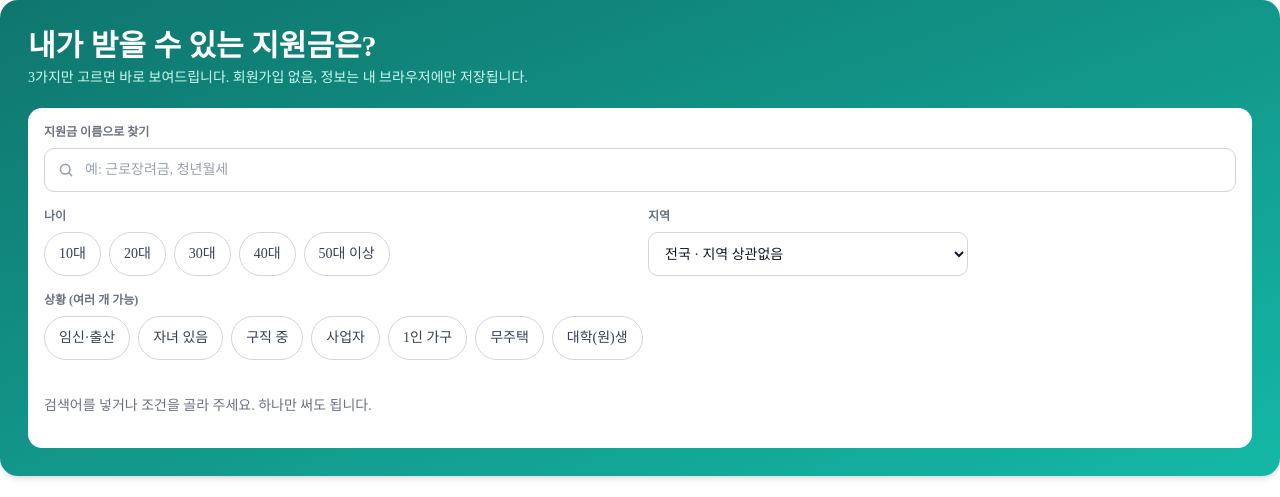
Test: DiagnosisPanel › 조건을 고르면 개수를 조회하고 localStorage에 저장한다
This screenshot has width=1280, height=497.
Click the button "30대".
click(202, 254)  # box [174,232,231,276]
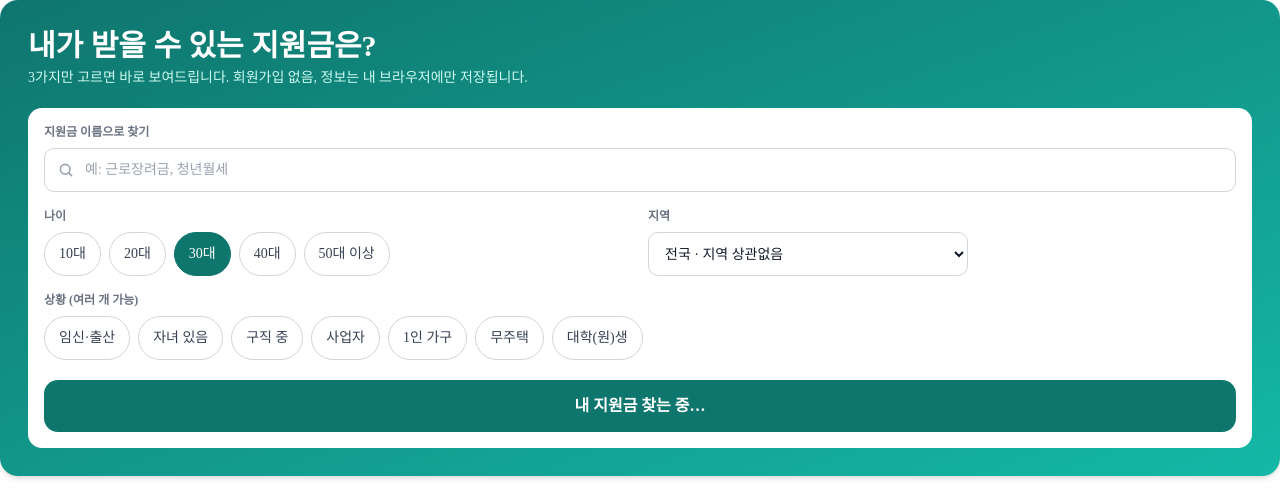
Click the button "임신·출산".
click(87, 338)  # box [44,316,130,360]
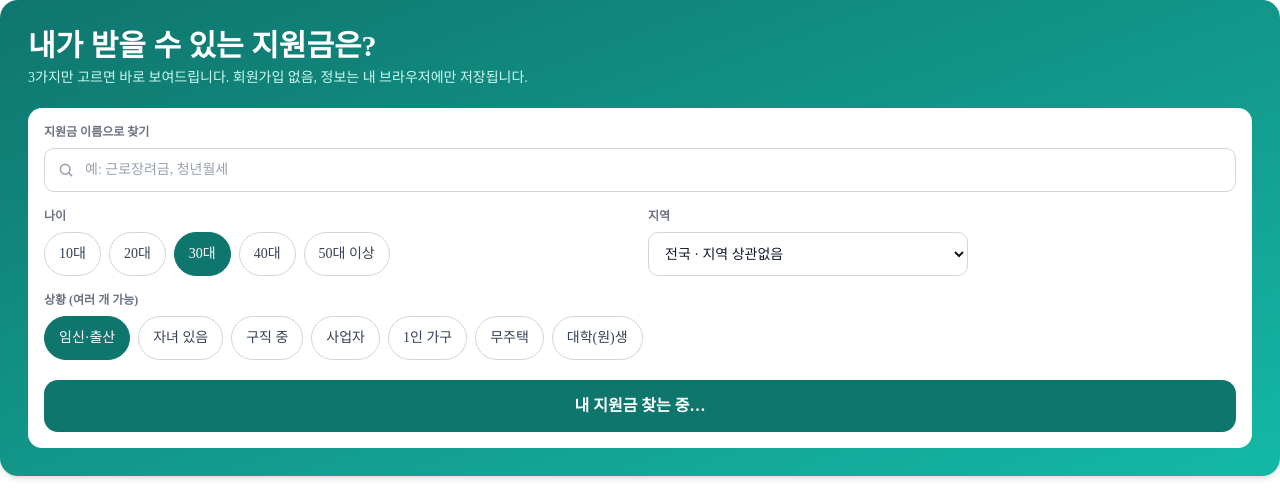
# 지역은 17개 중 하나라 칩이 아니라 목록 상자다
Select "서울" in the dropdown labelled "지역" at (808, 254), box [648,232,968,276]
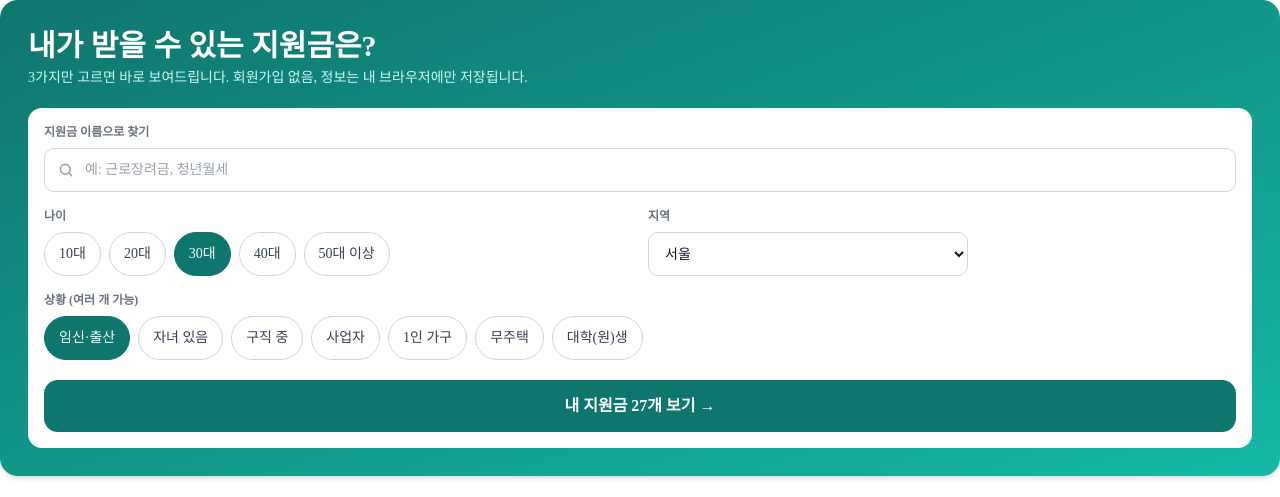
Result: the link "내 지원금 27개 보기 →" is shown at [44,380,1236,432]
